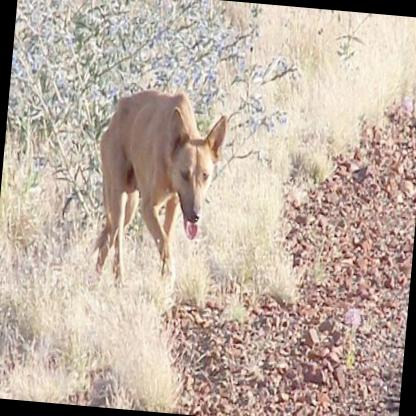dingo: (87, 83, 230, 297)
